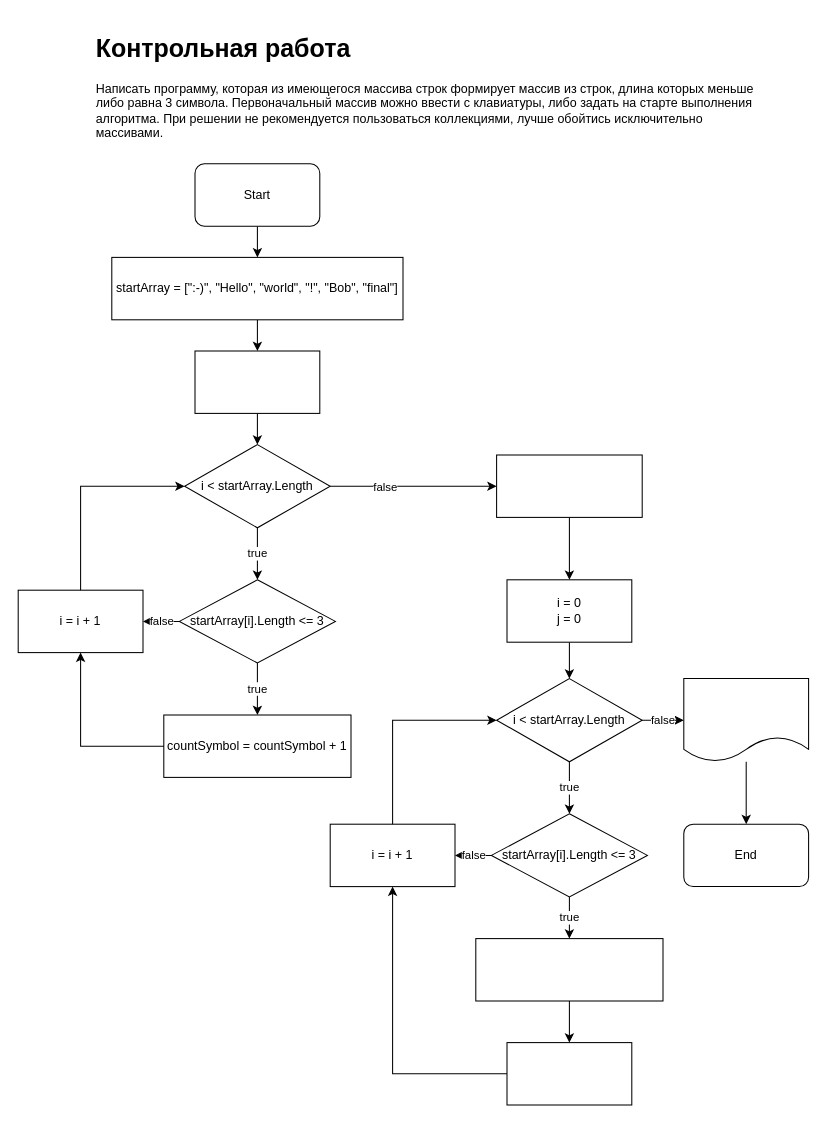
Image size: 827x1123. Some labels were removed from this diagram. Here are the shapes that lost their labels. From the top down, the centre of each, then its label:
(257,381): countSymbol = 0 i = 0
(569,485): finalArray[countSymbol]
(746,720): Output: finalArray
(569,969): finalArray[j] = startArray[i]
(569,1073): j = j + 1
